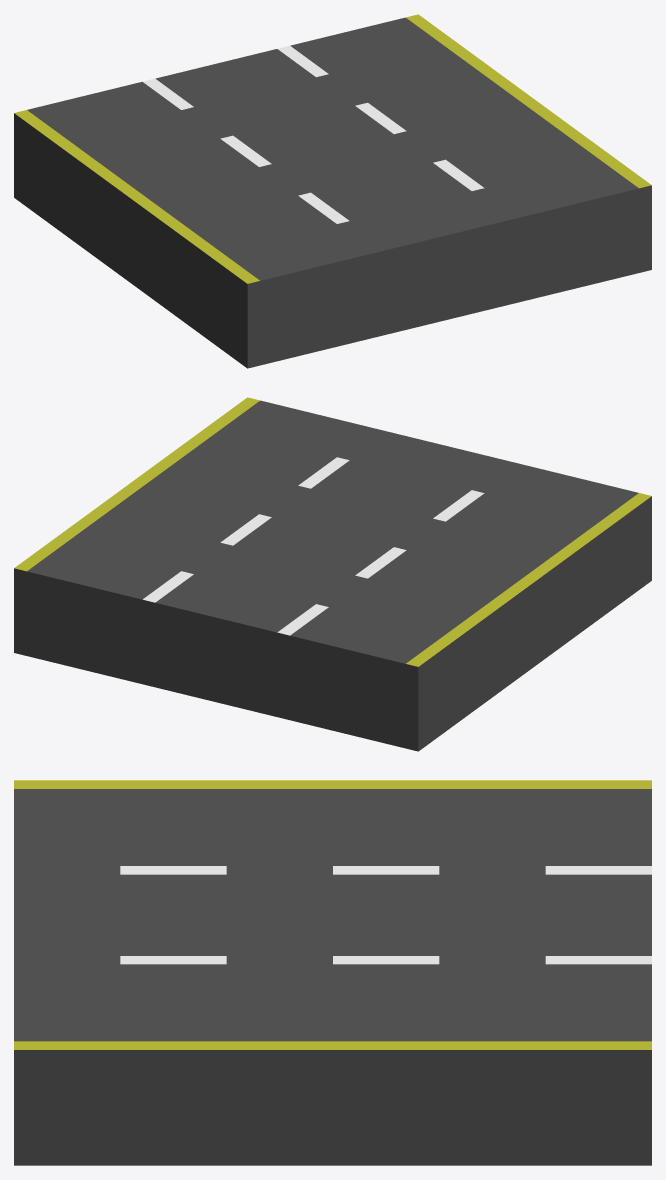
The model's file is Road.glb.
3 renders of one model, top to bottom at view 1: azimuth 30°, elevation 25°; view 2: azimuth 150°, elevation 25°; view 3: azimuth 270°, elevation 25°, orthographic. The views are drawn at different scales.
Parts seen in each view (by area): view 1: Cube; view 2: Cube; view 3: Cube.
Part boxes in pixels (x1,y1,x2,y2): Cube: [14, 14, 651, 368]; Cube: [14, 397, 651, 751]; Cube: [14, 780, 651, 1165].
Size of the model in its own units: 5 by 1 by 5.
